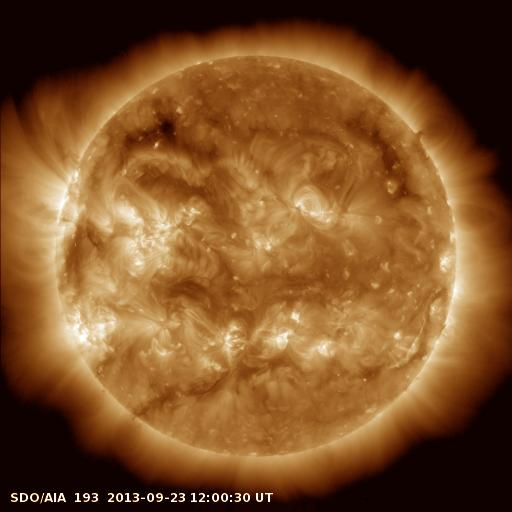coronal_hole: (143, 111, 186, 142)
